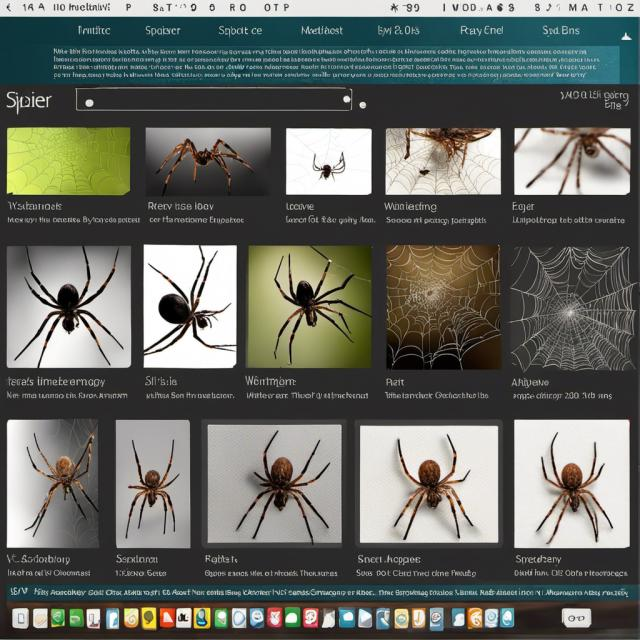spider: (10, 246, 128, 368), (218, 426, 336, 541), (266, 250, 369, 367), (148, 242, 242, 370), (380, 425, 478, 539), (534, 425, 614, 546), (21, 426, 100, 545), (516, 129, 627, 193), (122, 430, 184, 539), (160, 130, 254, 193), (301, 148, 351, 185)
